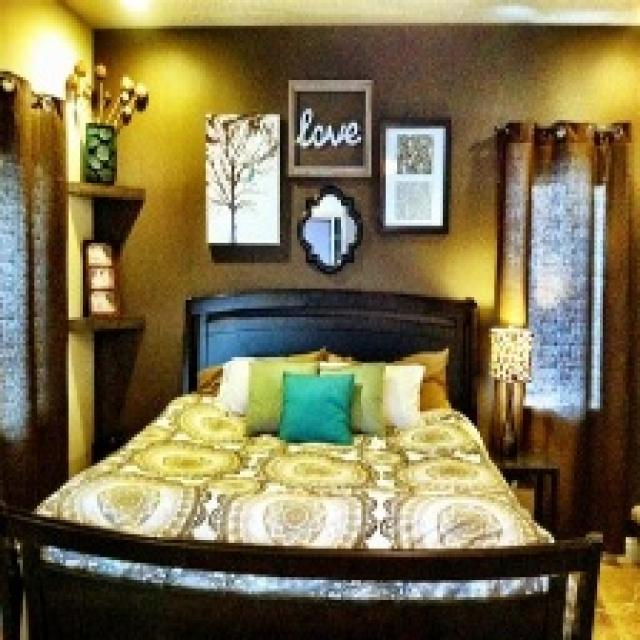Bed: (0, 286, 603, 637)
